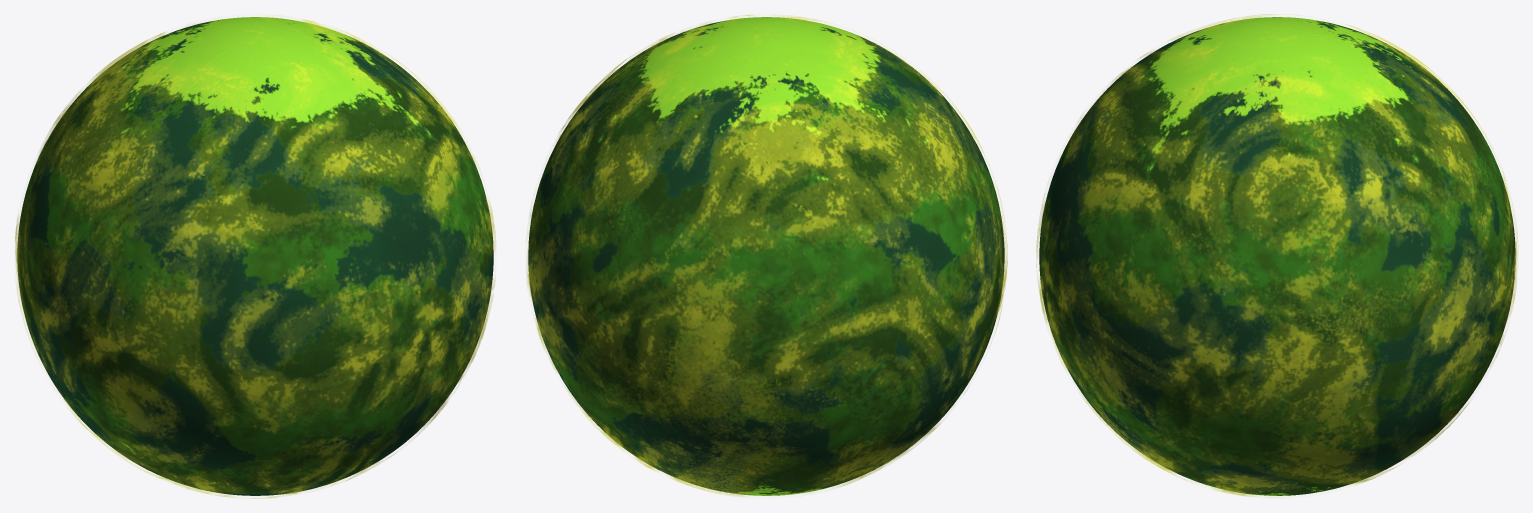
The model's file is adrian_planet.glb.
3 views of the same model, side by side, from view 1: azimuth 30°, elevation 25°; view 2: azimuth 150°, elevation 25°; view 3: azimuth 270°, elevation 25° (orthographic).
Visible parts, largest first — view 1: AdrianGround, AdrianClouds; view 2: AdrianGround, AdrianClouds; view 3: AdrianGround, AdrianClouds.
Boxes of the visible parts, left/top/right/bottom form: AdrianGround: left=17, top=17, right=493, bottom=495; AdrianClouds: left=15, top=15, right=495, bottom=498; AdrianGround: left=528, top=17, right=1004, bottom=495; AdrianClouds: left=526, top=14, right=1007, bottom=497; AdrianGround: left=1039, top=17, right=1515, bottom=495; AdrianClouds: left=1036, top=14, right=1518, bottom=497.
Size of the model in its own units: 2 by 2.02 by 2.
Materials: 2 (2 with a texture image).
